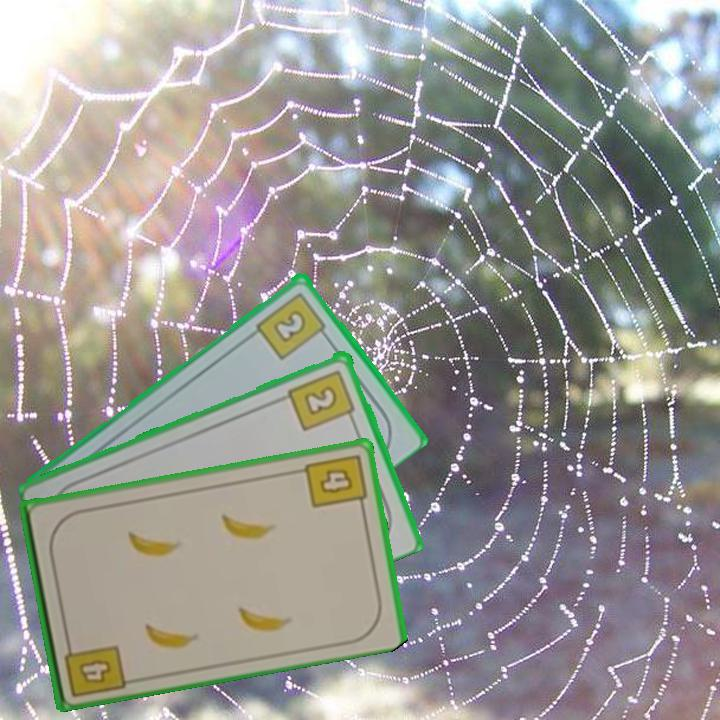2b: (252, 288, 332, 362), (285, 366, 358, 434)
4b: (60, 634, 128, 700), (301, 450, 369, 513)
